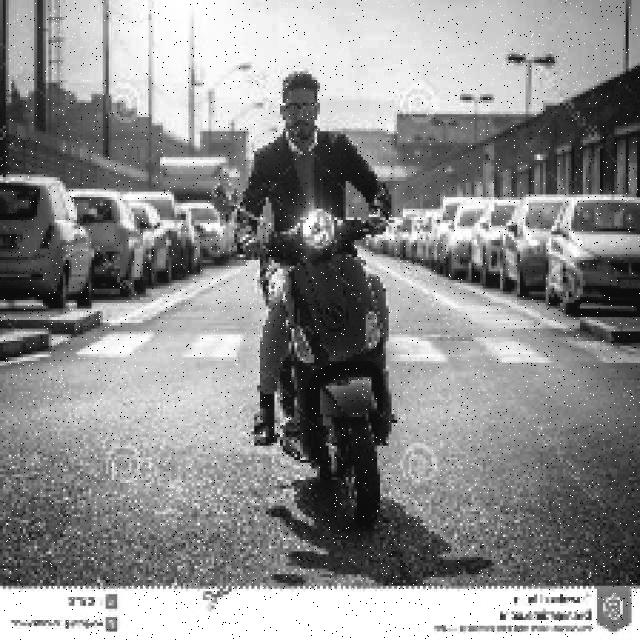Bike: (267, 216, 387, 526)
